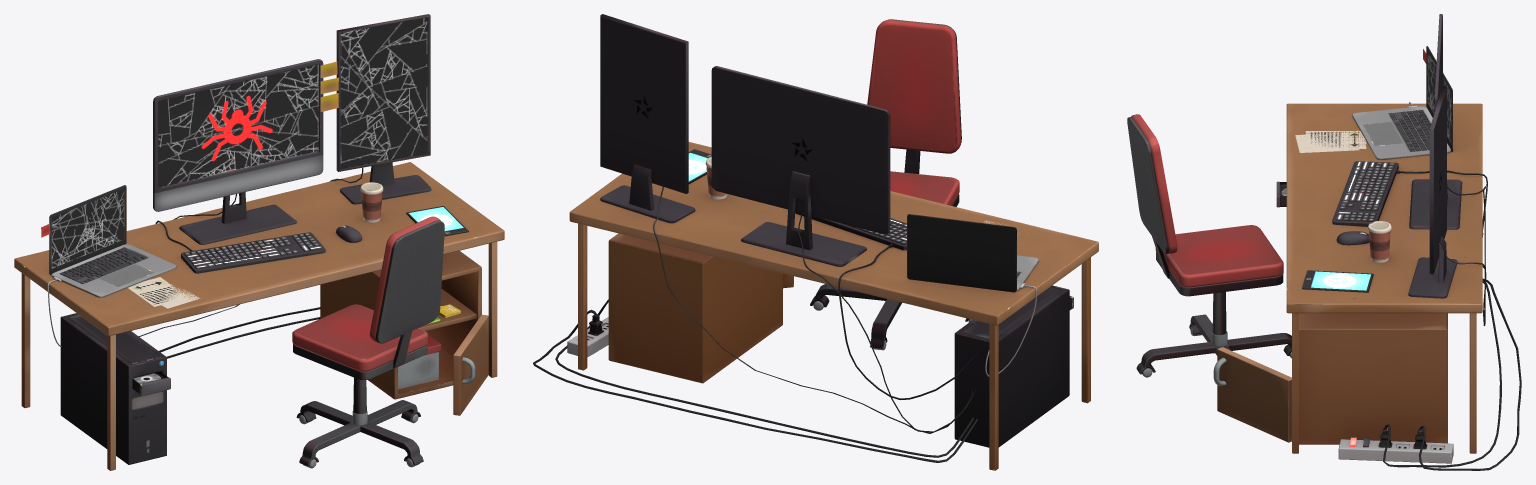
Rendered from cyberroom_2.glb.
3 renders of one model, left to right at view 1: azimuth 30°, elevation 25°; view 2: azimuth 150°, elevation 25°; view 3: azimuth 270°, elevation 25°, orthographic. The views are drawn at different scales.
Visible parts, largest first — view 1: Final; view 2: Final; view 3: Final.
Part boxes in pixels (x1=…): Final: x1=14, y1=14, x2=504, y2=470; Final: x1=533, y1=14, x2=1098, y2=470; Final: x1=1127, y1=14, x2=1521, y2=470.
Bounding box in the file's own units: 2.36 × 1.64 × 1.81.
1 material, 1 textured.
